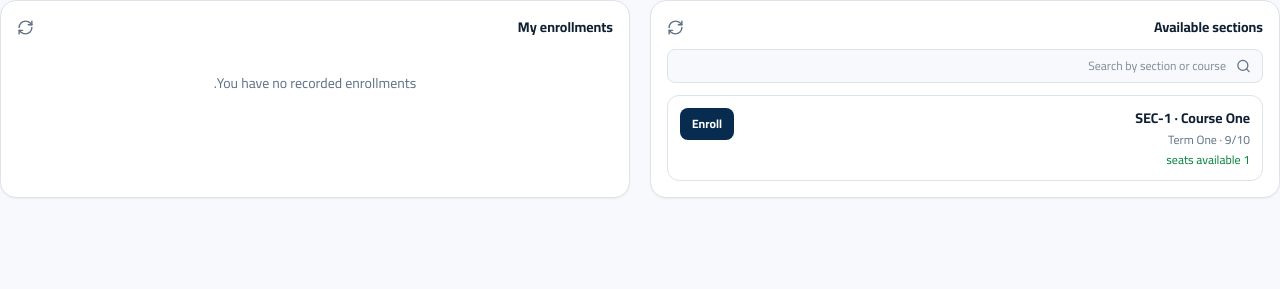
Test case: StudentRegistrationPage › shows server-backed sections and does not report success when enrollment is rejected
Expected: the heading "SEC-1 · Course One" is shown, [1135,108,1250,128]
Click the button "Enroll": (707, 124) [680,108,734,140]
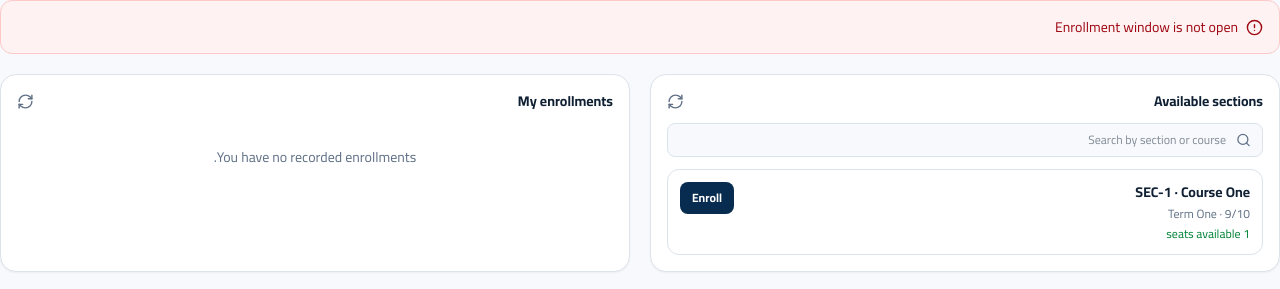
Now the message reads "Enrollment window is not open", box [1055,14,1238,40]
